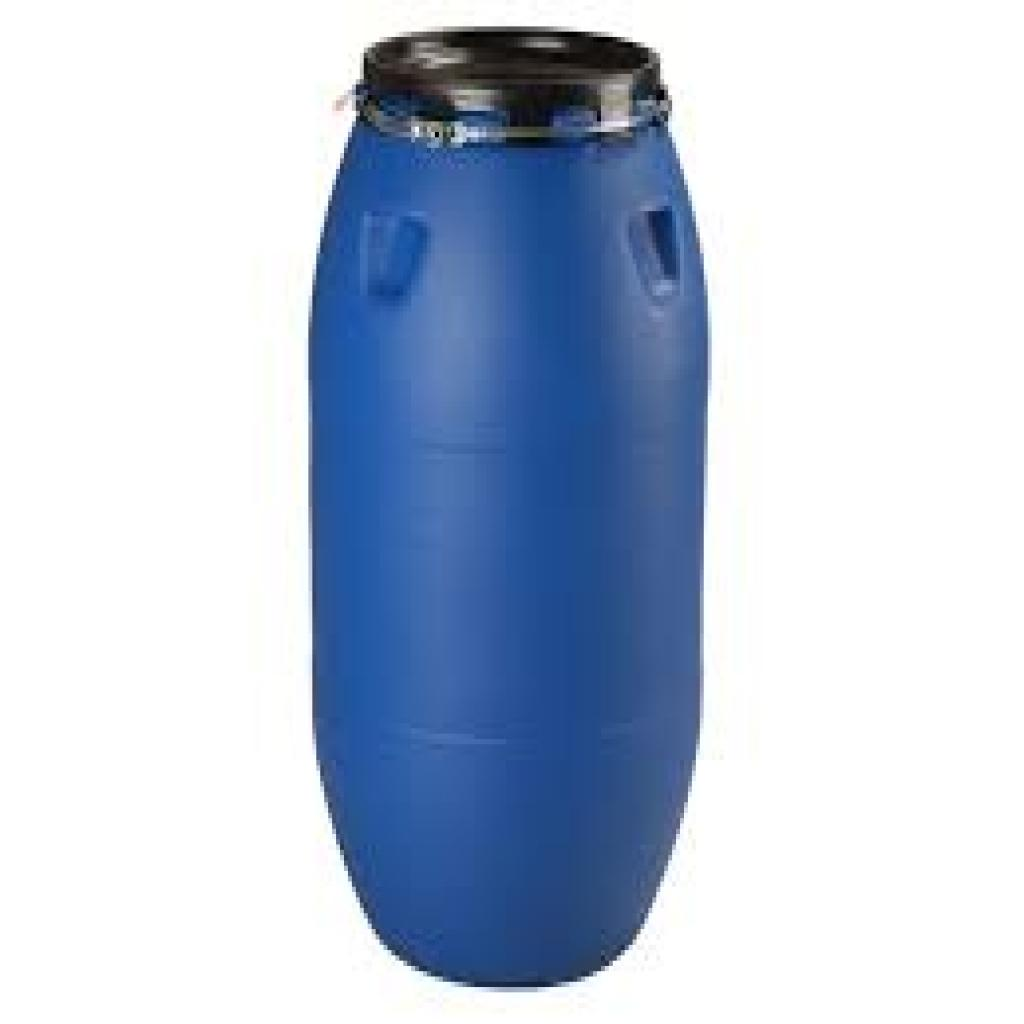organico: (269, 15, 751, 1003)
